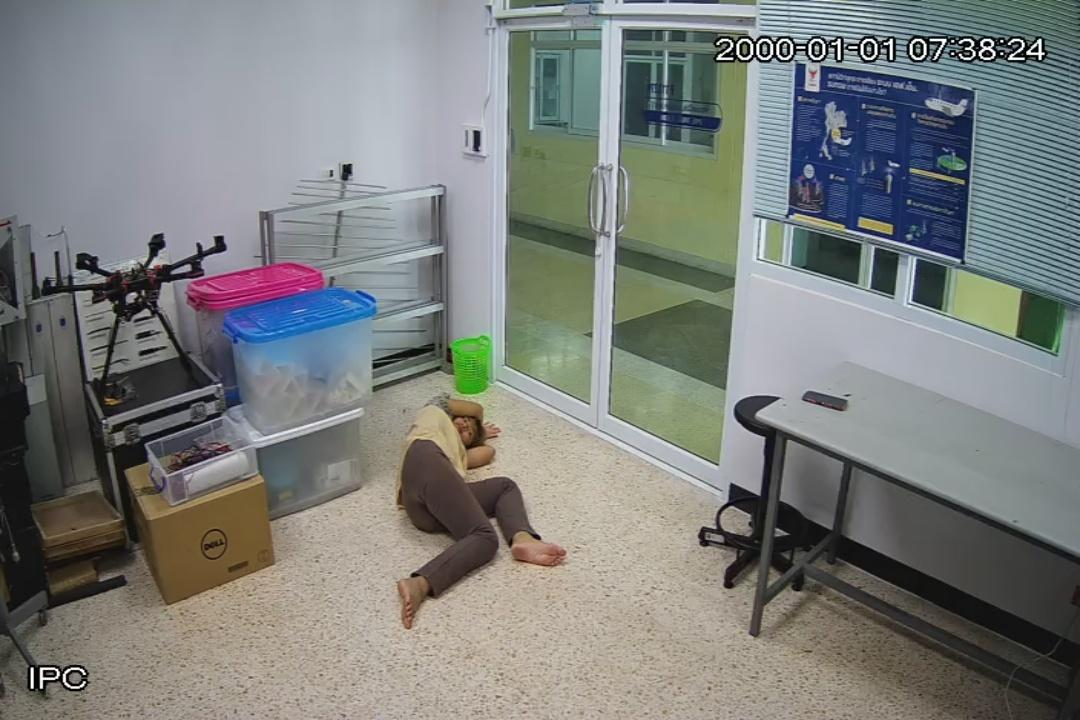fall: (400, 395, 559, 628)
